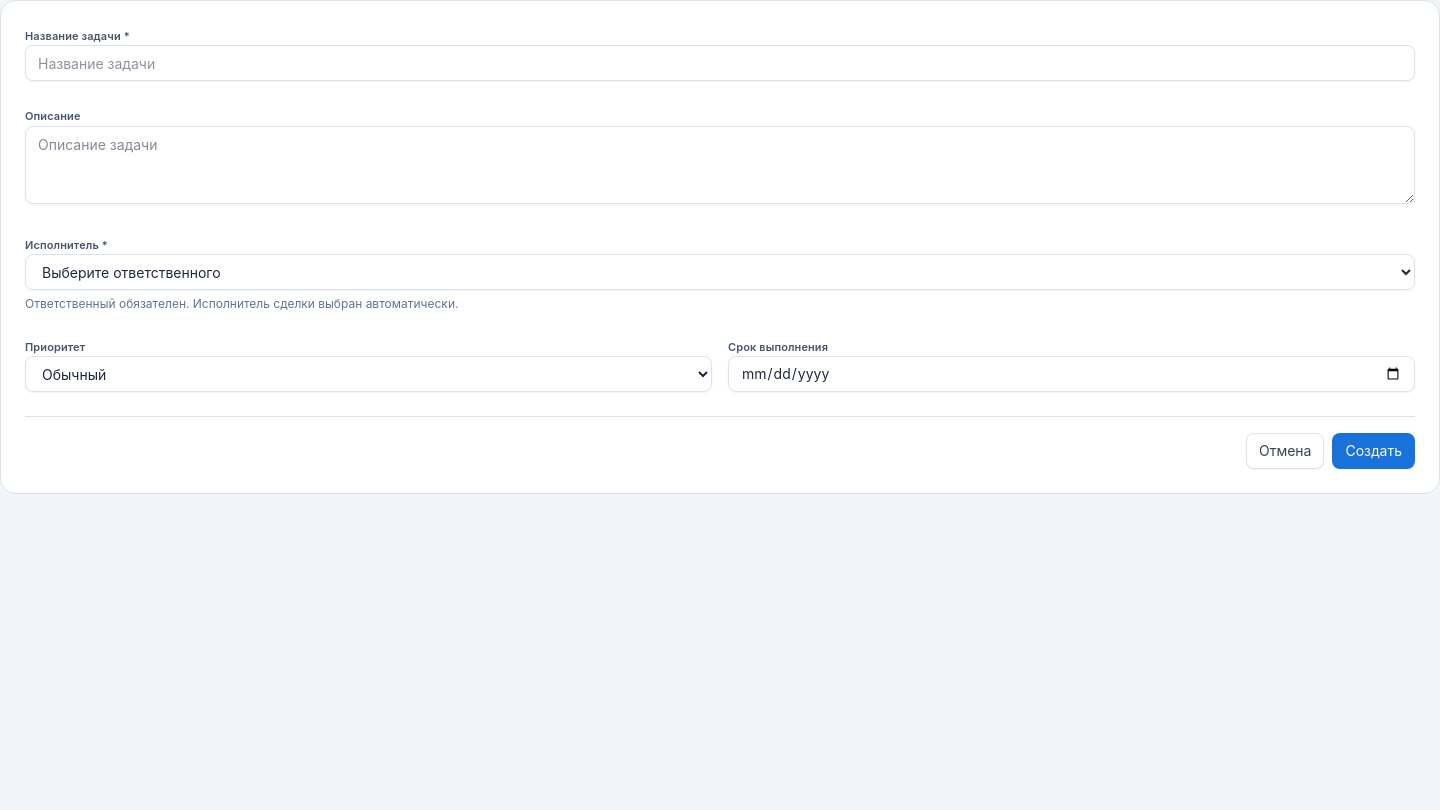
Test: AddTaskForm › не отправляет форму без ответственного
Type "Позвонить клиенту" into the field labelled "Название задачи *" at point(720, 63), box [25,45,1415,81]
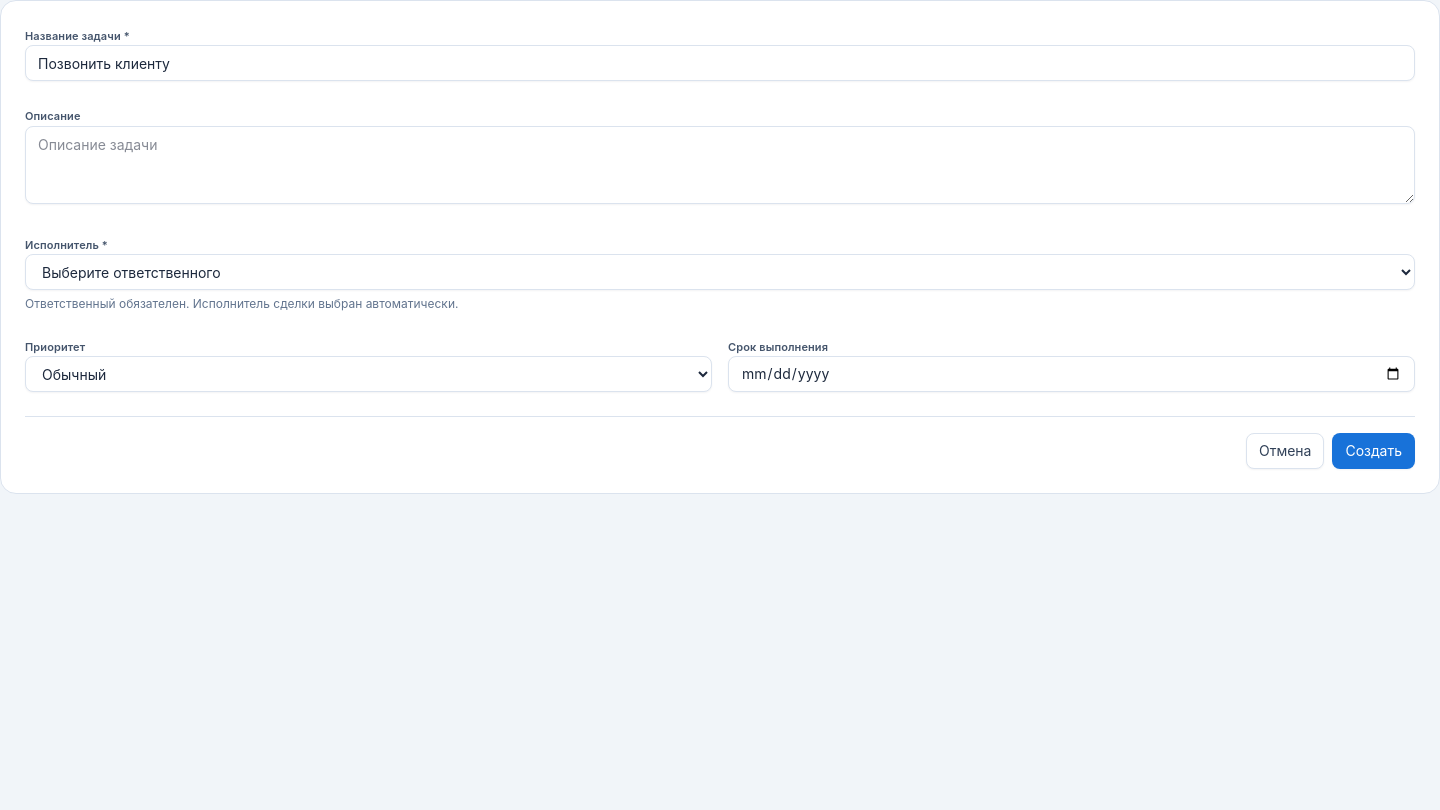
Submit the form named "Создать"
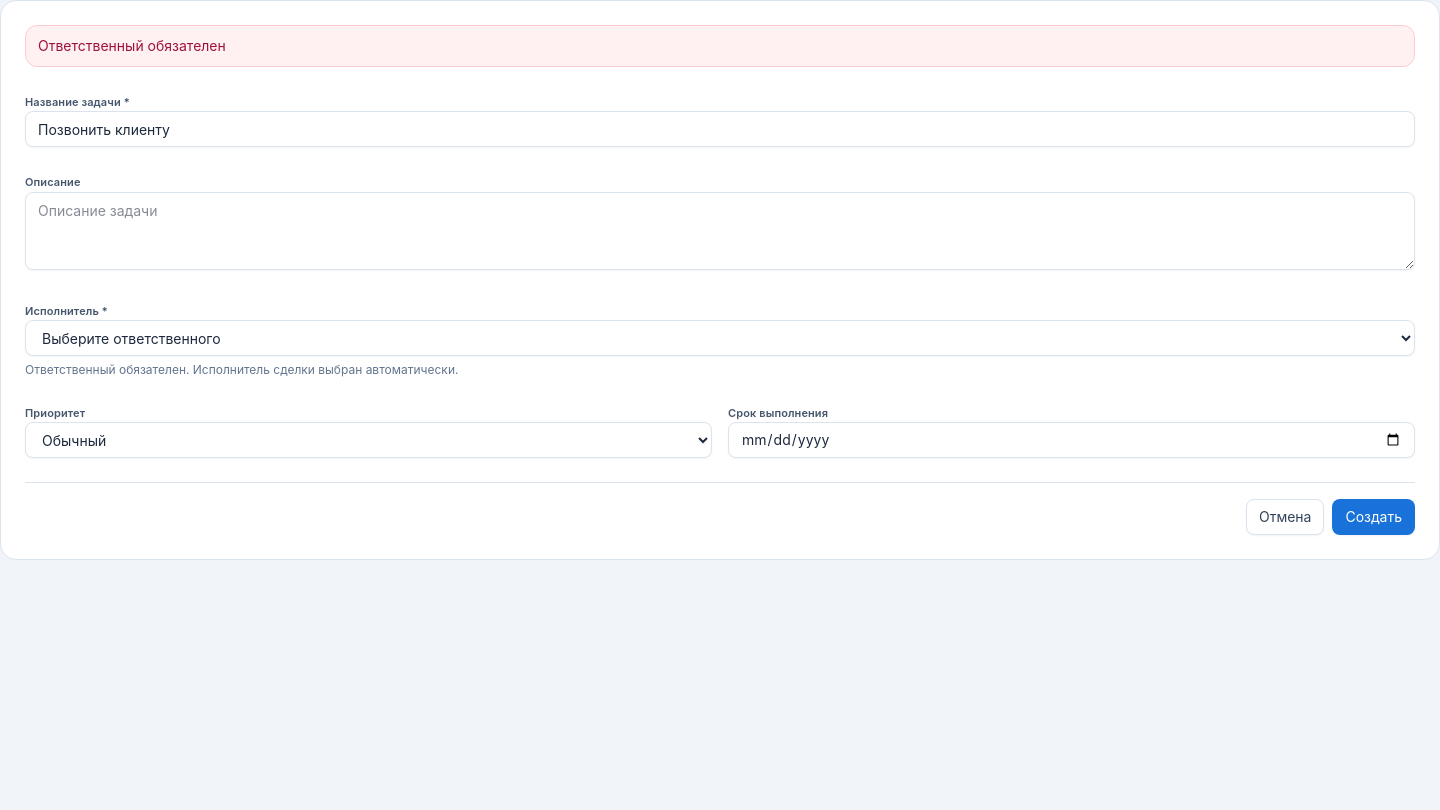
Check: the text "Ответственный обязателен" is shown, box [25,25,1415,67]
